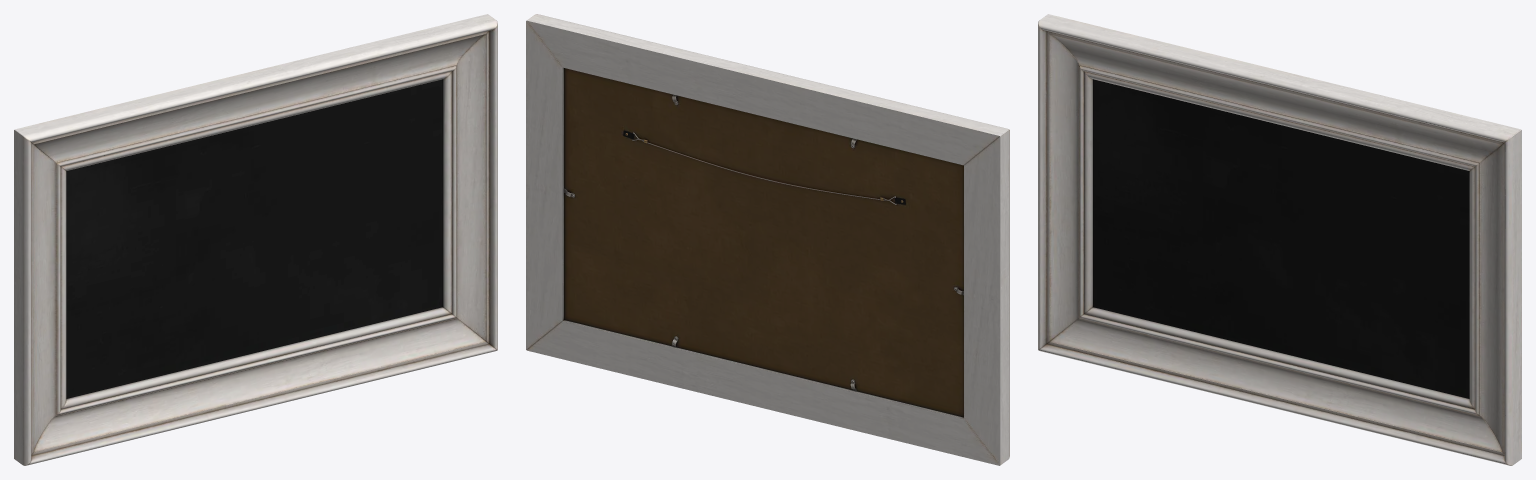
The model's file is hanging_picture_frame_02.glb.
3 views of the same model, side by side, from view 1: azimuth 30°, elevation 25°; view 2: azimuth 150°, elevation 25°; view 3: azimuth 330°, elevation 25° (orthographic).
Parts seen in each view (by area): view 1: hanging_picture_frame_02; view 2: hanging_picture_frame_02; view 3: hanging_picture_frame_02.
Part boxes in pixels (x1,y1,x2,y2): hanging_picture_frame_02: (14, 14, 497, 465); hanging_picture_frame_02: (526, 14, 1009, 465); hanging_picture_frame_02: (1038, 14, 1521, 465).
Size of the model in its own units: 0.7518 by 0.5 by 0.0331.
Materials: 3 (3 with a texture image).
